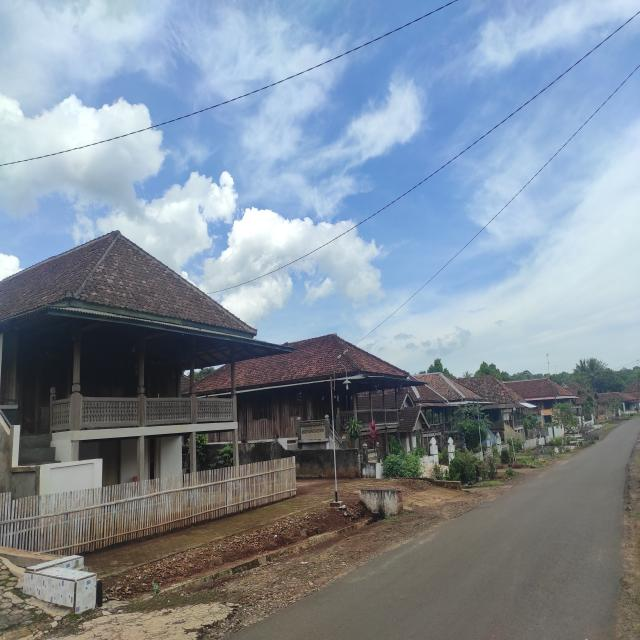Kolom: (137, 341, 145, 393), (232, 429, 239, 466)
Pintu: (101, 440, 119, 487)
